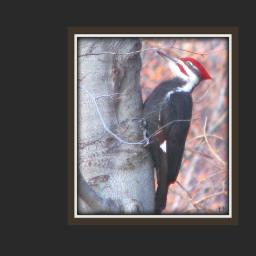Woodpecker: (131, 50, 213, 215)
